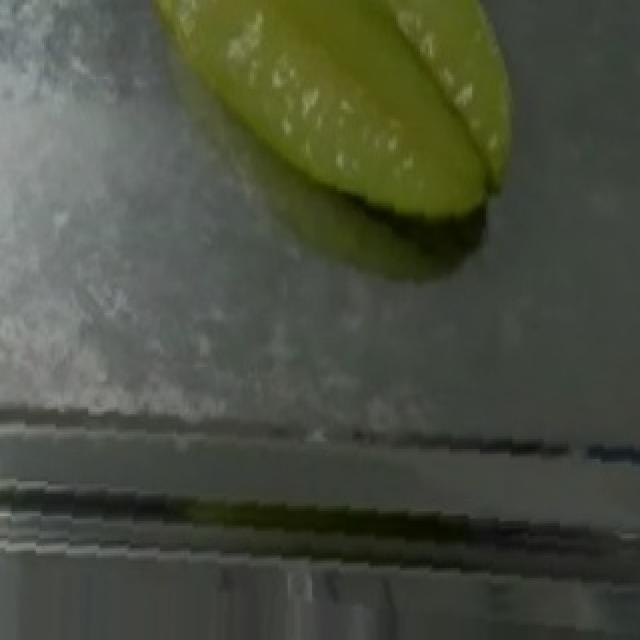fruit: (160, 0, 574, 248)
